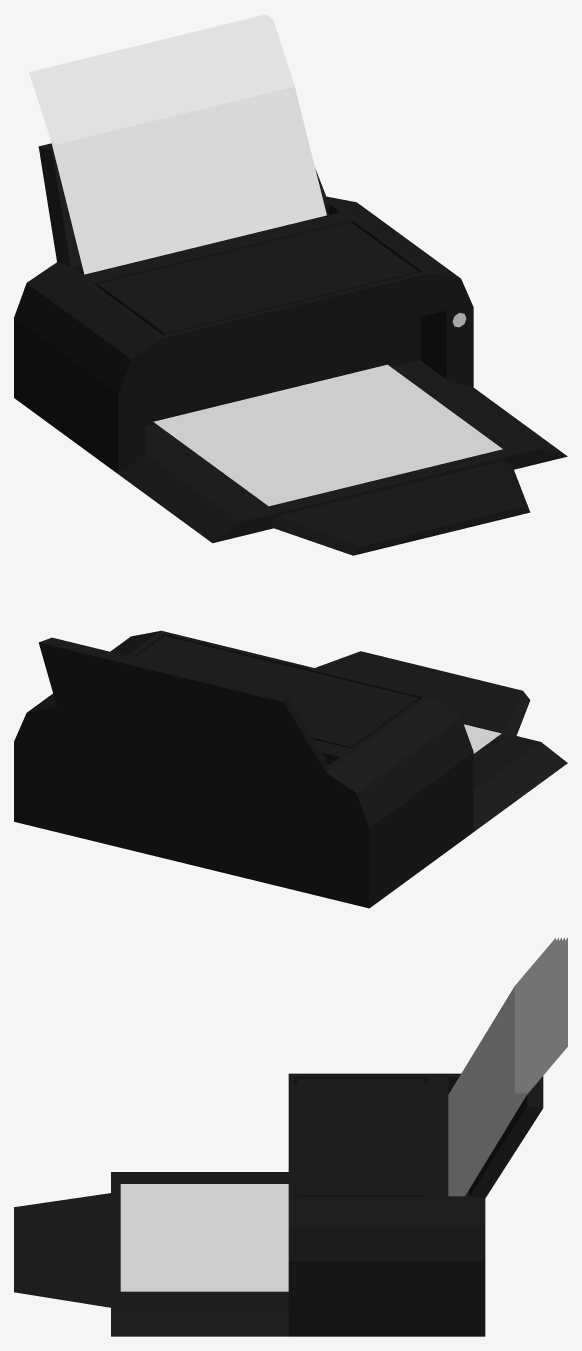
File: Printer.glb
The picture shows the model from 3 angles, top to bottom: view 1: azimuth 30°, elevation 25°; view 2: azimuth 150°, elevation 25°; view 3: azimuth 270°, elevation 25°; orthographic projection. The views are drawn at different scales.
Visible parts, largest first — view 1: Printer; view 2: Printer; view 3: Printer.
Part boxes in pixels (bbox=[...]): Printer: bbox=[14, 14, 567, 555]; Printer: bbox=[14, 630, 567, 908]; Printer: bbox=[14, 938, 567, 1336].
Size of the model in its own units: 0.2645 by 0.1985 by 0.379.
Materials: 1 (1 with a texture image).
